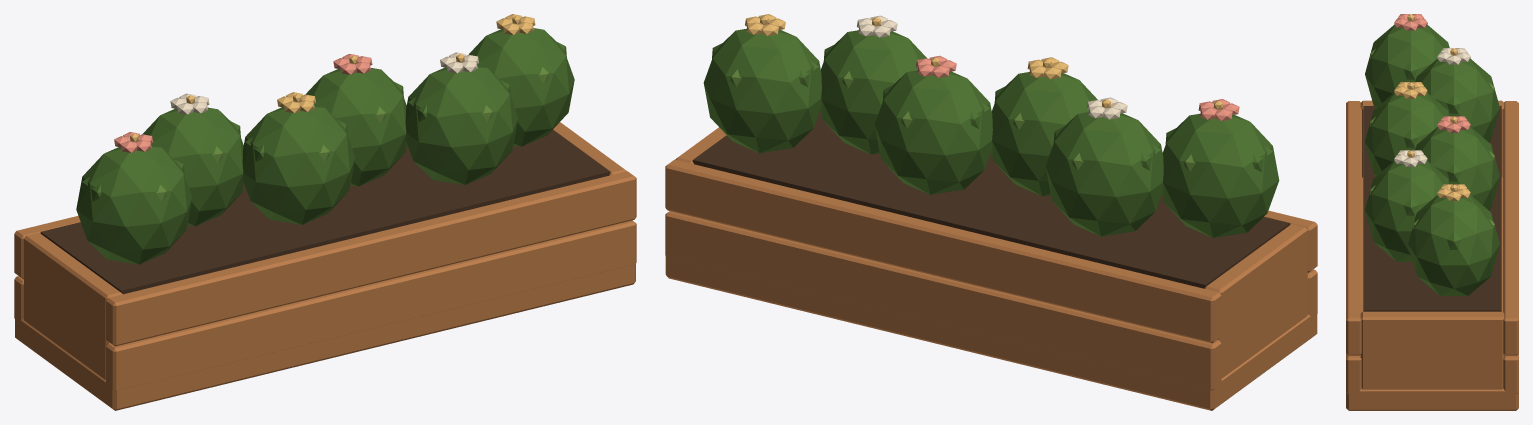
File: planter.glb
3 renders of one model, left to right at view 1: azimuth 30°, elevation 25°; view 2: azimuth 150°, elevation 25°; view 3: azimuth 270°, elevation 25°, orthographic. The views are drawn at different scales.
Visible parts, largest first — view 1: planter_long_board_-1_1, planter_long_board_-1_0, planter_soil, planter_base, planter_bush_0, planter_bush_4, planter_bush_2, planter_end_-1, planter_bush_5, planter_bush_3, planter_bush_1, planter_long_board_1_1 (+1 smaller); view 2: planter_long_board_1_1, planter_long_board_1_0, planter_soil, planter_base, planter_bush_1, planter_bush_3, planter_bush_5, planter_bush_0, planter_end_-1, planter_bush_2, planter_bush_4, planter_long_board_-1_1 (+1 smaller); view 3: planter_end_1, planter_soil, planter_bush_5, planter_bush_4, planter_base, planter_long_board_1_1, planter_long_board_-1_1, planter_bush_1, planter_bush_3, planter_bush_2, planter_bush_0, planter_long_board_1_0 (+8 smaller).
Part boxes in pixels (x1,y1,x2,y2): planter_long_board_-1_1: (106,171,636,346); planter_long_board_-1_0: (106,220,636,391); planter_soil: (40,130,610,294); planter_base: (15,264,635,410); planter_bush_0: (76,146,192,264); planter_bush_4: (405,66,518,184); planter_bush_2: (242,106,355,224); planter_end_-1: (24,232,122,379); planter_bush_5: (469,28,574,146); planter_bush_3: (306,68,406,186); planter_bush_1: (142,107,243,226); planter_long_board_1_1: (14,216,80,279); planter_long_board_1_1: (665,159,1221,343); planter_long_board_1_0: (665,211,1221,390); planter_soil: (692,111,1290,288); planter_base: (665,256,1317,410); planter_bush_1: (1045,112,1163,236); planter_bush_3: (874,70,992,194); planter_bush_5: (703,29,821,153); planter_bush_0: (1162,113,1279,237); planter_end_-1: (1204,224,1307,378); planter_bush_2: (991,72,1097,196); planter_bush_4: (820,30,926,154); planter_long_board_-1_1: (1264,210,1317,272); planter_end_1: (1360,311,1504,389); planter_soil: (1363,106,1501,311); planter_bush_5: (1408,195,1499,295); planter_bush_4: (1365,161,1449,261); planter_base: (1346,177,1518,410); planter_long_board_1_1: (1503,101,1518,355); planter_long_board_-1_1: (1346,101,1361,355); planter_bush_1: (1415,58,1499,141); planter_bush_3: (1415,127,1499,210); planter_bush_2: (1365,93,1449,175); planter_bush_0: (1365,24,1449,107); planter_long_board_1_0: (1503,354,1518,393).
Bounding box in the file's own units: 1.8 × 0.78 × 0.601.
